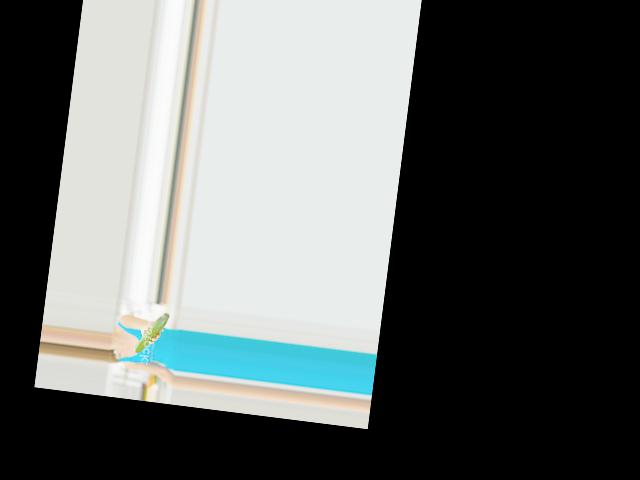cucumber: (134, 310, 170, 356)
